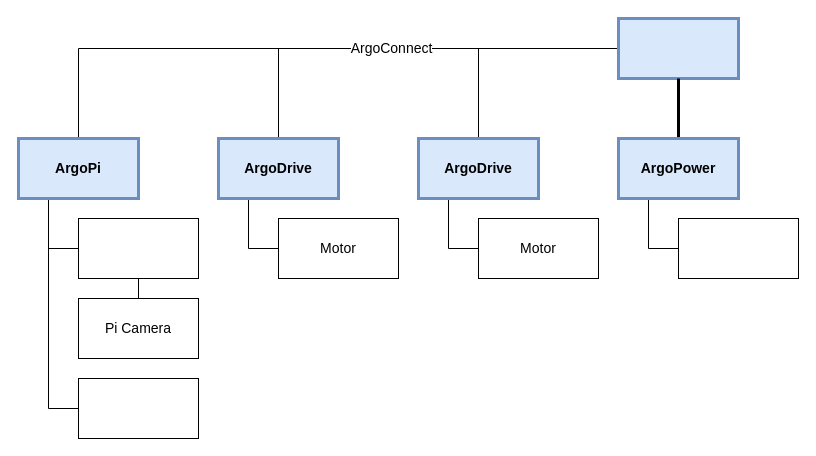
The diagram is 816 pixels wide and 456 high, and some of its shapes have lost their labels. The centre of each missing label's shape, as x and y in pixels:
ArgoHub: [678,48]
Battery: [738,248]
Raspberry Pi 4: [138,248]
RPLiDAR- C1: [138,408]
